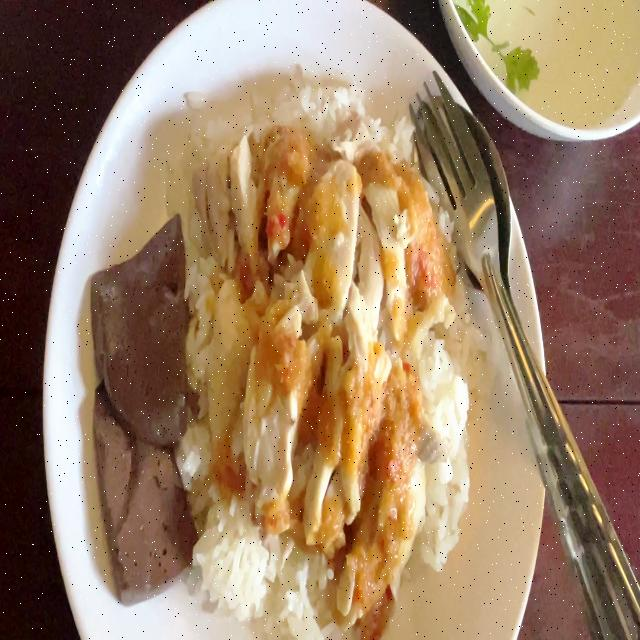boiled_chicken: (200, 140, 435, 523)
boiled_chicken_blood_jelly: (90, 224, 183, 446), (95, 374, 185, 586)
chicken_rice: (88, 73, 472, 640)
